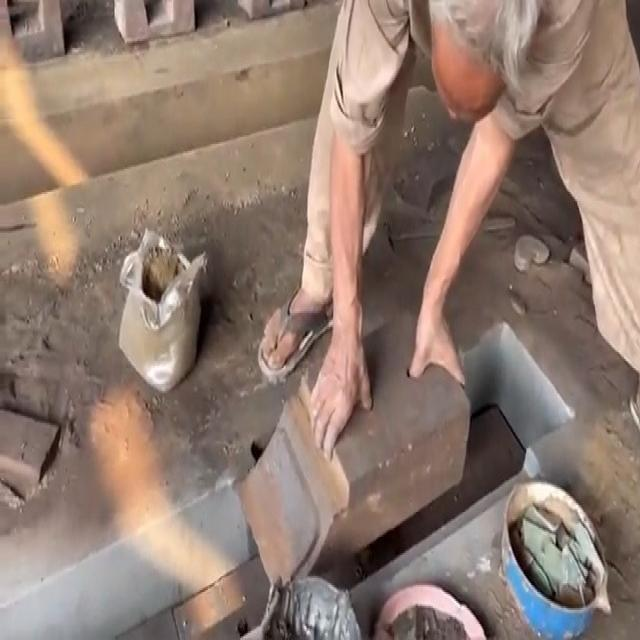dress: (299, 0, 640, 366)
